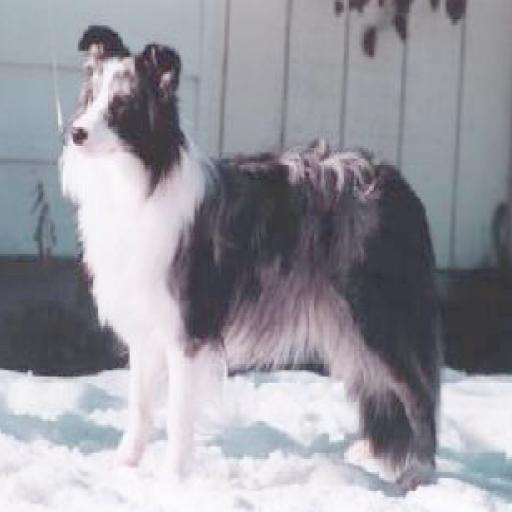dog_face: (68, 24, 175, 164)
